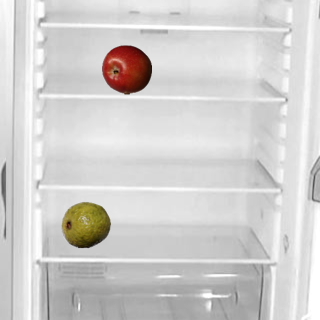Apple Braeburn: (101, 44, 151, 94)
Guava: (60, 199, 110, 249)
